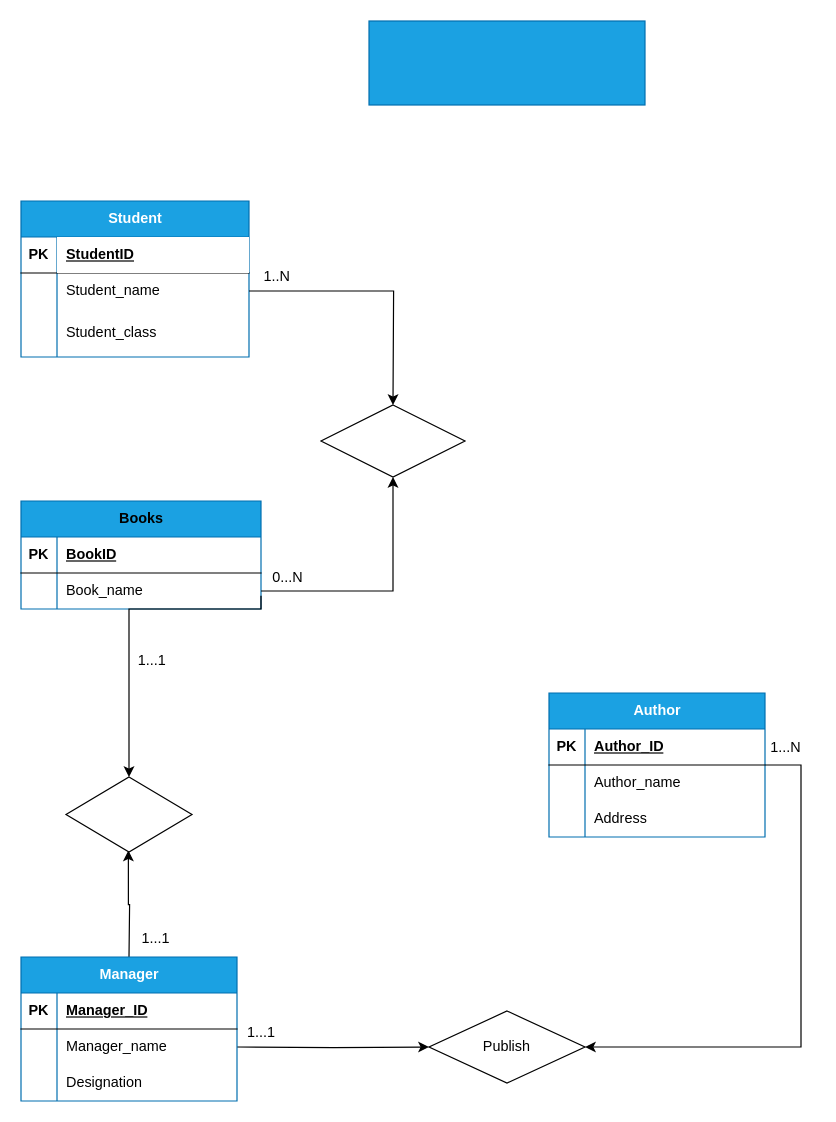
The diagram is 836 pixels wide and 1122 high, and some of its shapes have lost their labels. Each missing label, with the centre of its shape:
Borrow: the point at 392,440
Library Management System: the point at 506,62
Permission: the point at 128,814
